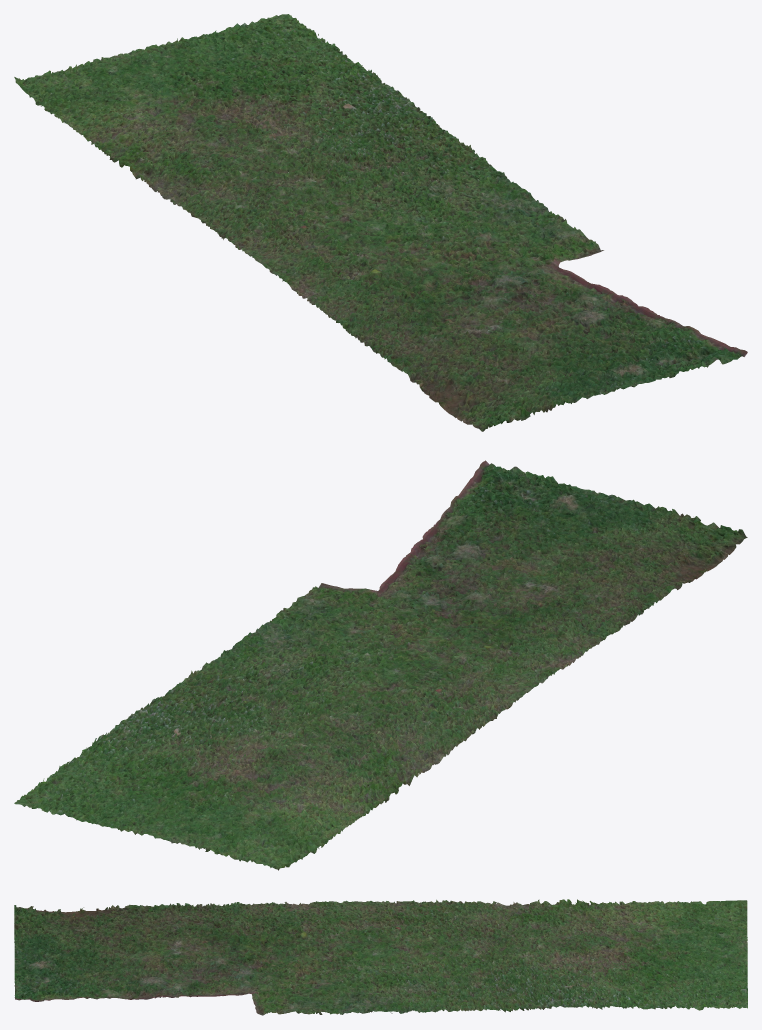
File: grass.lod1.glb
3 views of the same model, one above another, from view 1: azimuth 30°, elevation 25°; view 2: azimuth 150°, elevation 25°; view 3: azimuth 270°, elevation 25° (orthographic). The views are drawn at different scales.
Visible parts, largest first — view 1: Model_material0_0; view 2: Model_material0_0; view 3: Model_material0_0.
Boxes of the visible parts, x1,y1,x2,y2 form: Model_material0_0: (14, 14, 747, 431); Model_material0_0: (14, 460, 747, 870); Model_material0_0: (14, 899, 747, 1015).
Size of the model in its own units: 94.13 by 7.07 by 274.
1 material, 1 textured.
